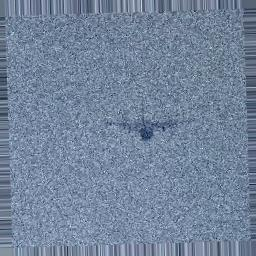Airplane: (107, 112, 190, 141)
